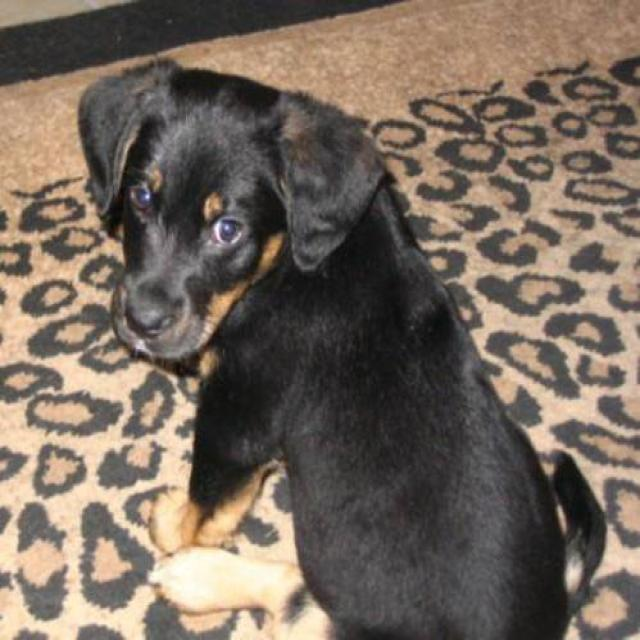dog: (76, 54, 606, 638)
